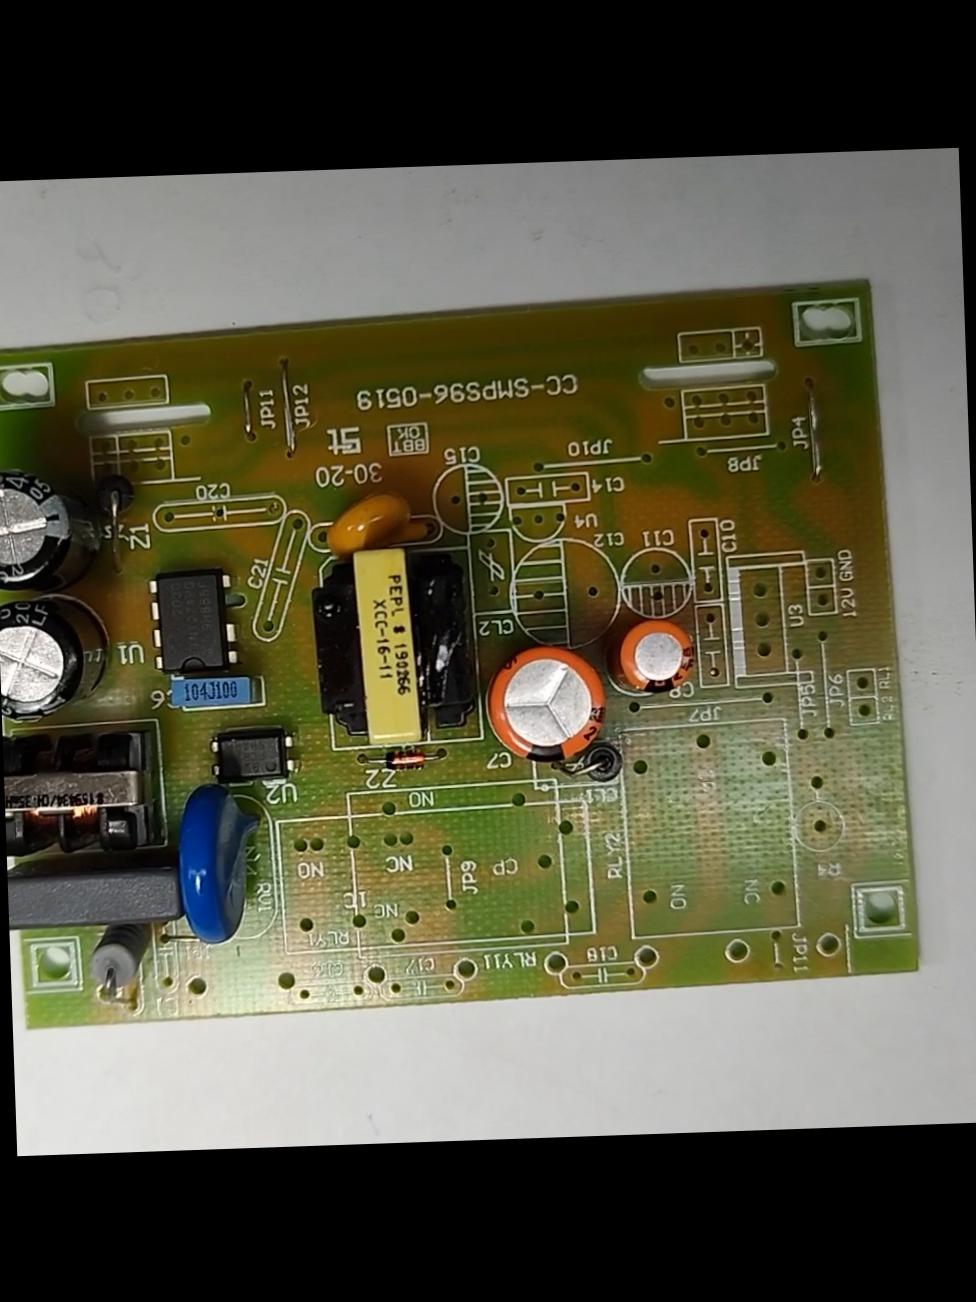Cap1: (486, 649, 610, 765)
Cap2: (617, 615, 695, 699)
Cap3: (0, 596, 117, 727)
Cap4: (0, 465, 101, 589)
MOSFET: (147, 562, 239, 674)
Mov: (170, 784, 267, 947)
Resistor: (81, 922, 164, 1001)
Transformer: (307, 539, 475, 738), (2, 725, 151, 859)
